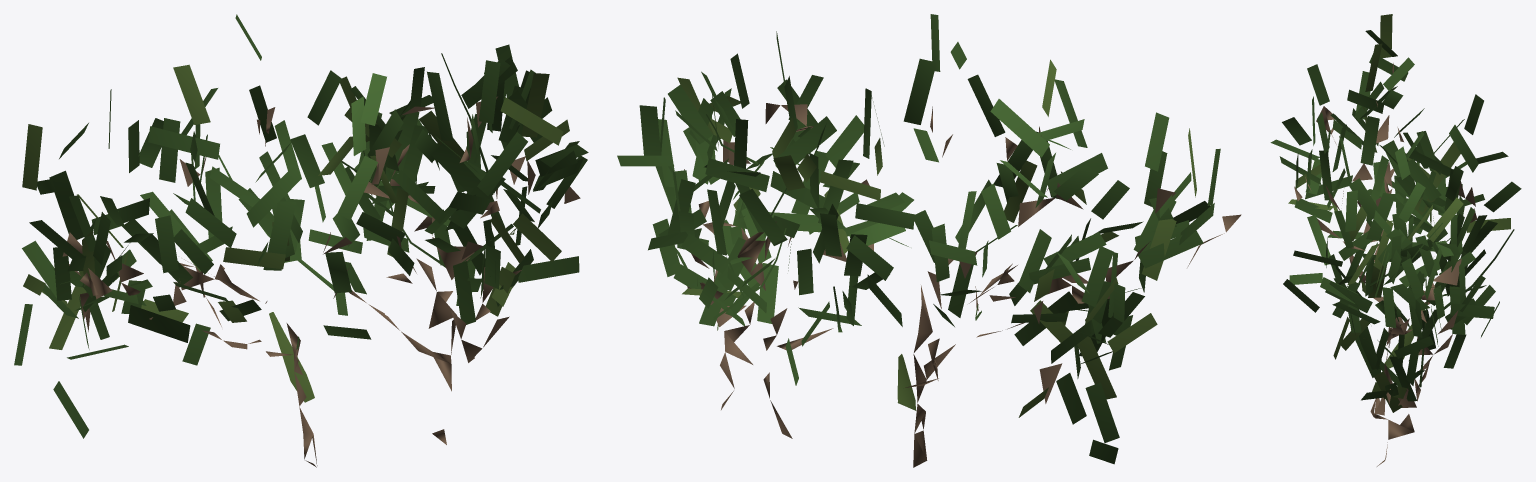
File: arvores_dupla_muito_longe.glb
3 views of the same model, side by side, from view 1: azimuth 30°, elevation 25°; view 2: azimuth 150°, elevation 25°; view 3: azimuth 270°, elevation 25° (orthographic). The views are drawn at different scales.
Visible parts, largest first — view 1: arvores_dupla_muito_longe; view 2: arvores_dupla_muito_longe; view 3: arvores_dupla_muito_longe.
Part boxes in pixels (<box>): arvores_dupla_muito_longe: <box>14,14,588,467</box>; arvores_dupla_muito_longe: <box>617,14,1241,467</box>; arvores_dupla_muito_longe: <box>1270,14,1521,466</box>.
Bounding box in the file's own units: 2.28 × 1.84 × 1.22.
